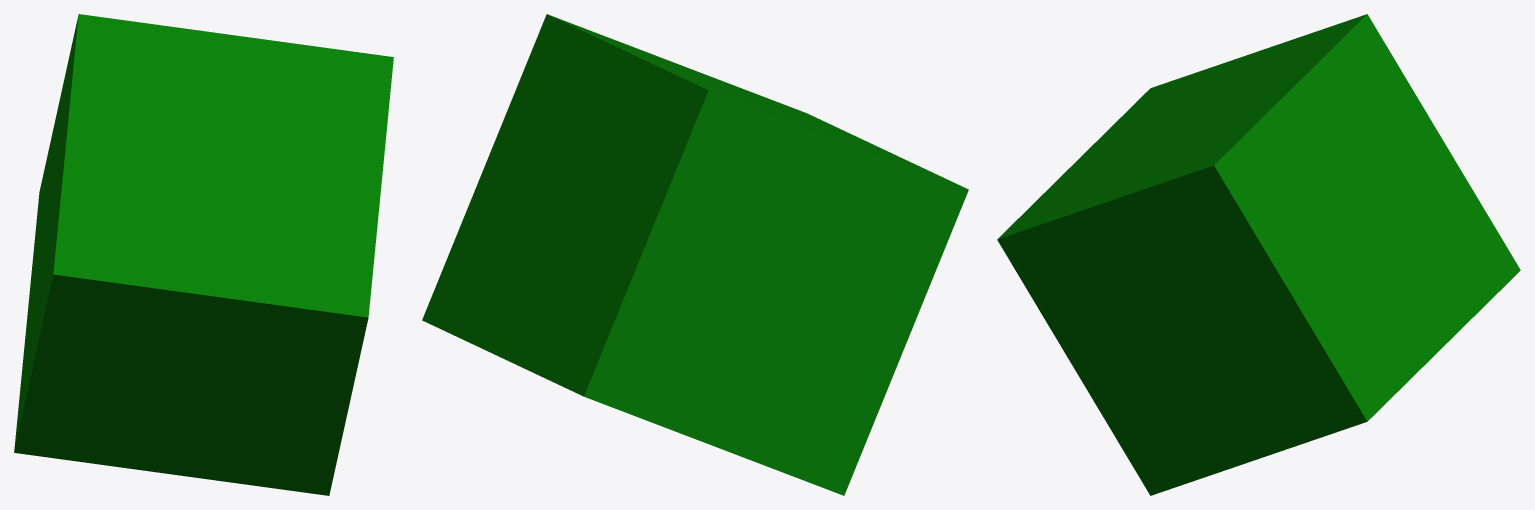
The model's file is _reference_geometry.dae.
3 renders of one model, left to right at view 1: azimuth 30°, elevation 25°; view 2: azimuth 150°, elevation 25°; view 3: azimuth 270°, elevation 25°, orthographic. The views are drawn at different scales.
Visible parts, largest first — view 1: cube_node; view 2: cube_node; view 3: cube_node.
Part boxes in pixels (box(x1,y1,x2,y2)): cube_node: box(14, 14, 393, 495); cube_node: box(422, 14, 968, 495); cube_node: box(997, 14, 1520, 495).
Bounding box in the file's own units: 150 × 150 × 171.
